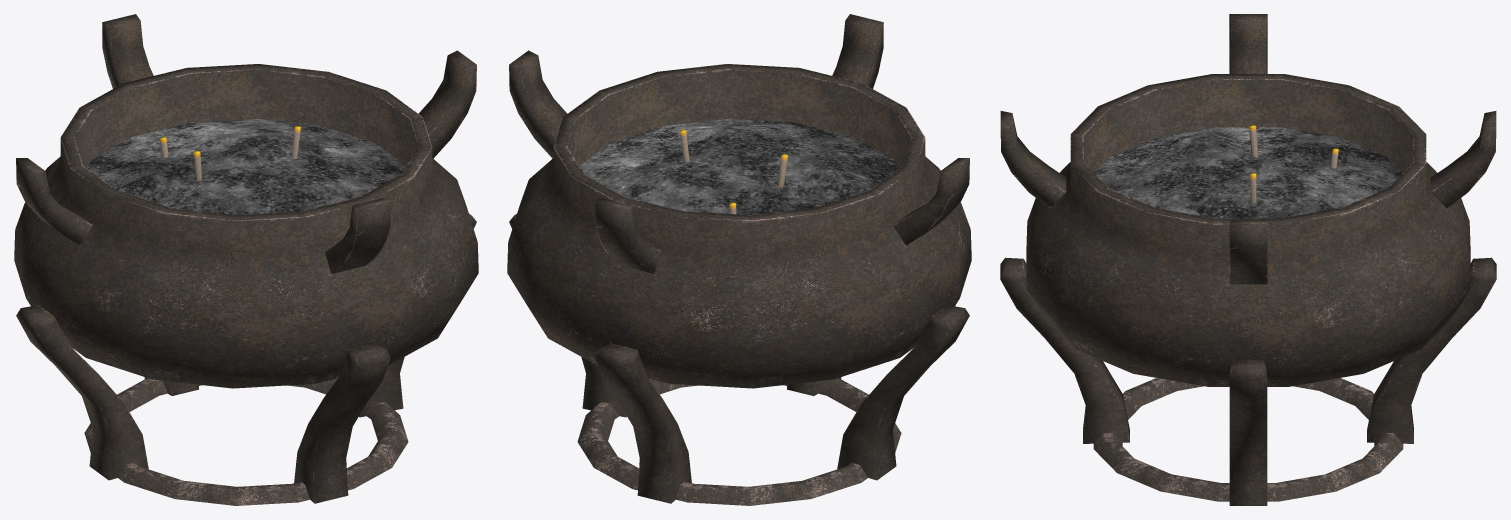
File: Censer_5.FBX
The picture shows the model from 3 angles, left to right: view 1: azimuth 30°, elevation 25°; view 2: azimuth 150°, elevation 25°; view 3: azimuth 270°, elevation 25°; orthographic projection. The views are drawn at different scales.
Visible parts, largest first — view 1: Censer_5; view 2: Censer_5; view 3: Censer_5.
Part boxes in pixels (x1,y1,x2,y2): Censer_5: [14, 14, 478, 505]; Censer_5: [507, 14, 971, 505]; Censer_5: [1000, 14, 1496, 505].
Bounding box in the file's own units: 51.24 × 36.16 × 51.24.
